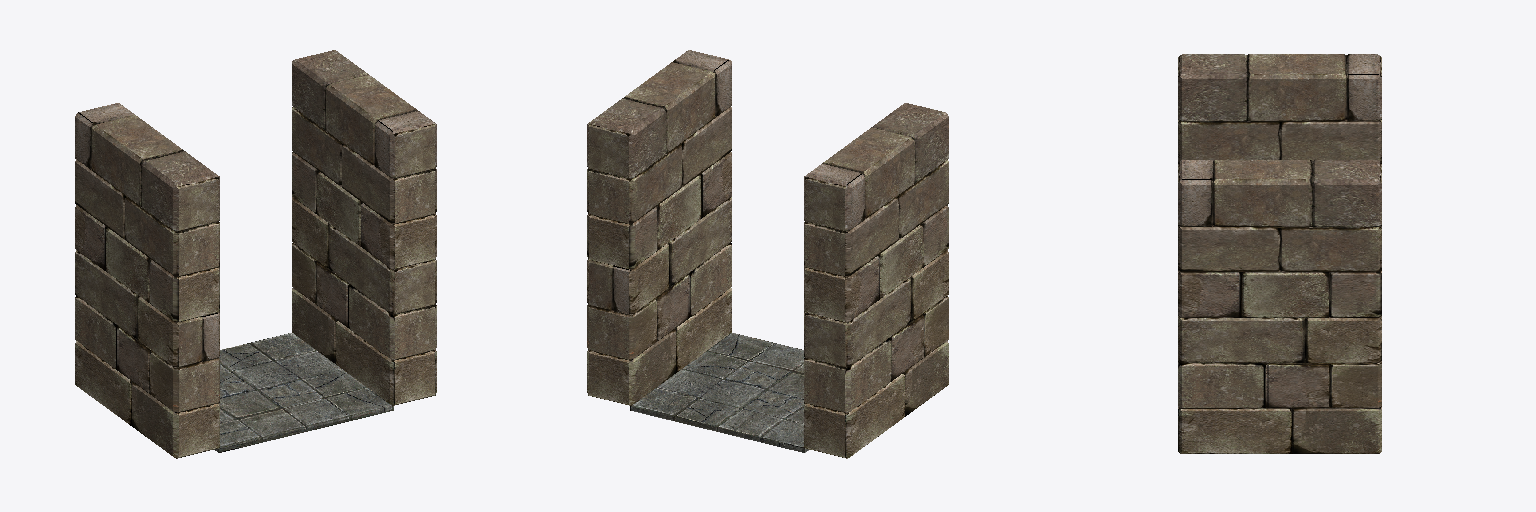
3 views of the same model, side by side, from view 1: azimuth 30°, elevation 25°; view 2: azimuth 150°, elevation 25°; view 3: azimuth 270°, elevation 25° (orthographic).
Visible parts, largest first — view 1: Box3456, Box3455, Box026; view 2: Box3456, Box3455, Box026; view 3: Box3455, Box3456.
Boxes of the visible parts, <box> form: Box3456: <box>75,103,219,458</box>; Box3455: <box>292,50,436,405</box>; Box026: <box>215,333,393,452</box>; Box3456: <box>804,103,948,458</box>; Box3455: <box>587,50,731,405</box>; Box026: <box>630,333,808,452</box>; Box3455: <box>1178,160,1381,453</box>; Box3456: <box>1178,54,1381,162</box>.
Size of the model in its own units: 3.04 by 3.07 by 2.04.
Materials: 2 (2 with a texture image).